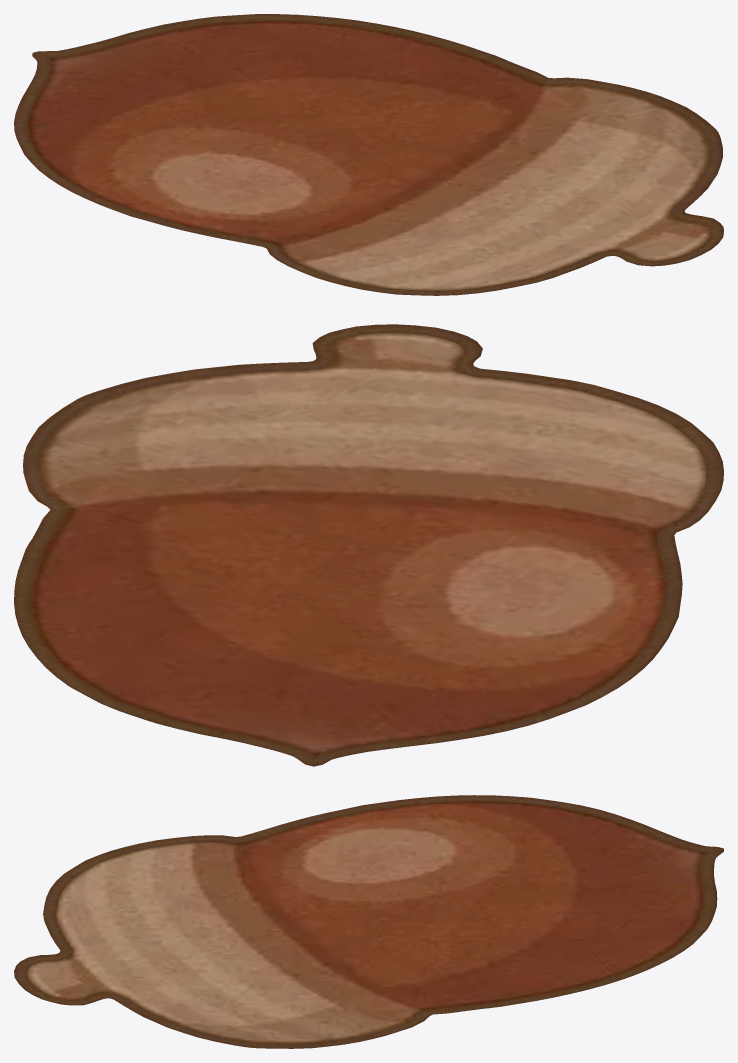
Rendered from acorn-rug.glb.
3 views of the same model, one above another, from view 1: azimuth 30°, elevation 25°; view 2: azimuth 150°, elevation 25°; view 3: azimuth 270°, elevation 25° (orthographic). The views are drawn at different scales.
Visible parts, largest first — view 1: RugOtherAcornM00_node1; view 2: RugOtherAcornM00_node1; view 3: RugOtherAcornM00_node1.
Boxes of the visible parts, x1=… form: RugOtherAcornM00_node1: x1=14, y1=14, x2=723, y2=295; RugOtherAcornM00_node1: x1=14, y1=324, x2=723, y2=766; RugOtherAcornM00_node1: x1=14, y1=795, x2=723, y2=1048.
Bounding box in the file's own units: 24.76 × 0.03 × 29.28.
1 material, 1 textured.
